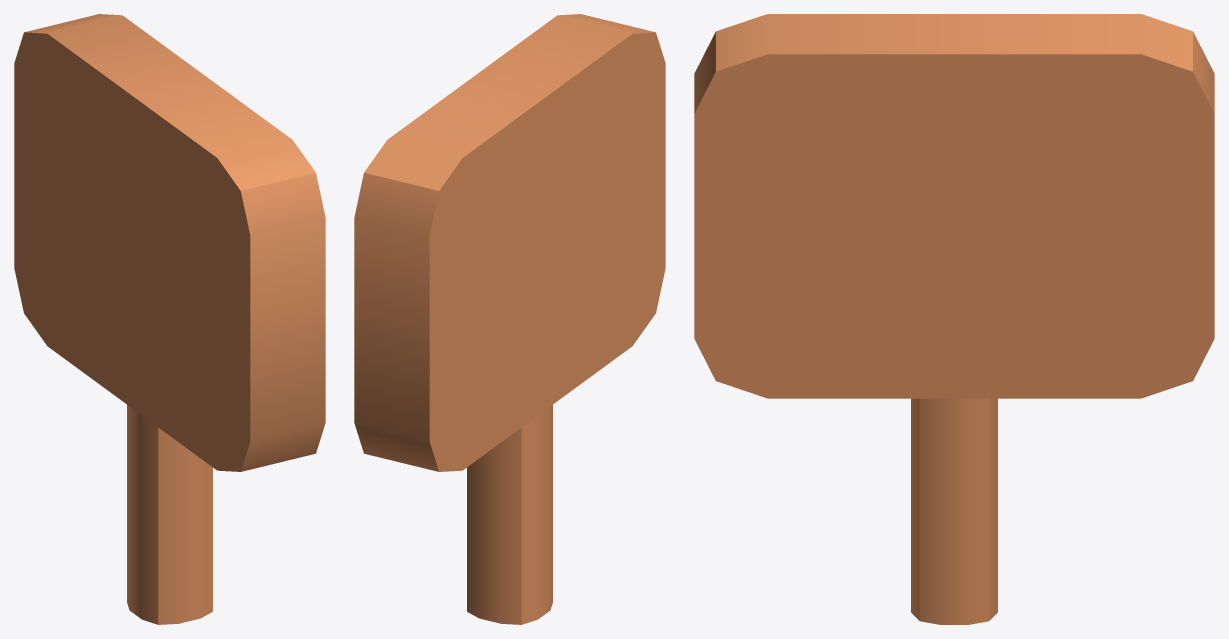
The model's file is Sign_A.fbx.
3 renders of one model, left to right at view 1: azimuth 30°, elevation 25°; view 2: azimuth 150°, elevation 25°; view 3: azimuth 270°, elevation 25°, orthographic. The views are drawn at different scales.
Parts seen in each view (by area): view 1: Sign_A; view 2: Sign_A; view 3: Sign_A.
Boxes of the visible parts, box(x1,y1,x2,y2) form: Sign_A: box(14, 14, 325, 624); Sign_A: box(354, 14, 665, 624); Sign_A: box(694, 14, 1214, 624).
Size of the model in its own units: 19.67 by 130 by 107.
